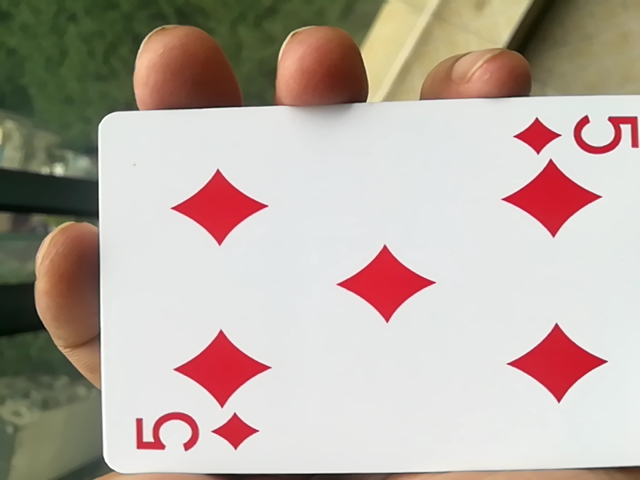fk 5: (85, 94, 637, 480)
